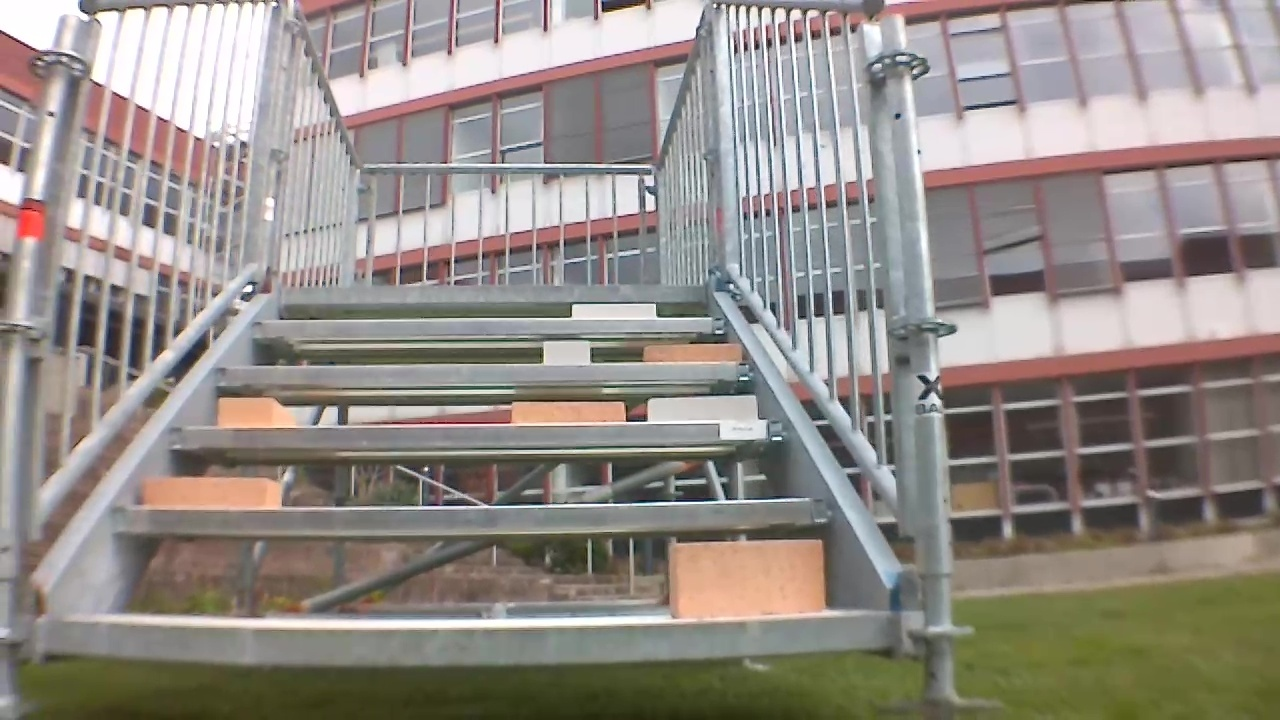brick: (667, 539, 824, 618), (142, 477, 282, 509), (649, 396, 754, 421), (511, 403, 623, 422), (218, 398, 291, 427), (643, 344, 741, 362), (574, 304, 656, 319), (541, 342, 589, 365)
edge: (43, 612, 886, 663), (111, 499, 831, 533), (168, 420, 791, 447), (215, 362, 753, 383), (254, 317, 724, 334), (279, 286, 709, 303)
stairs: (14, 4, 977, 714)
steps: (34, 278, 899, 679)
